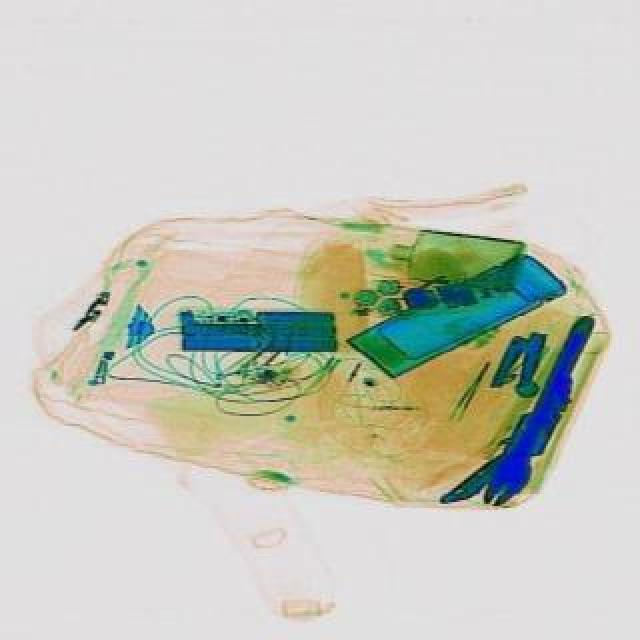scissors: (480, 310, 612, 514)
